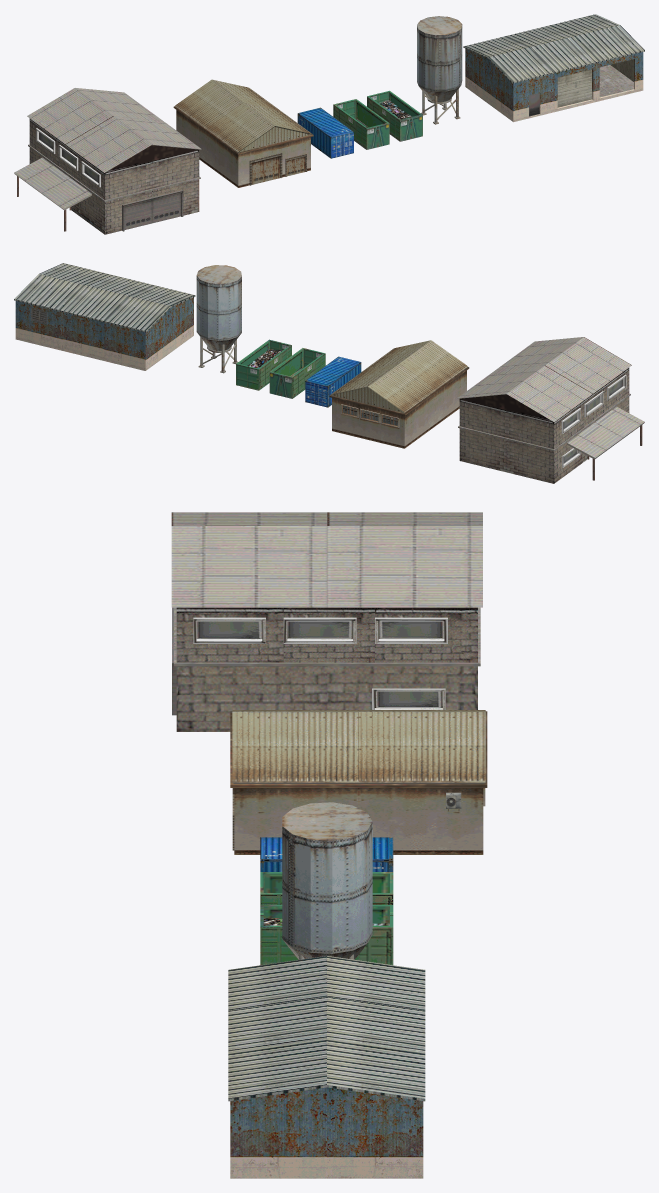
File: industrial_buildings.fbx
The picture shows the model from 3 angles, top to bottom: view 1: azimuth 30°, elevation 25°; view 2: azimuth 150°, elevation 25°; view 3: azimuth 270°, elevation 25°; orthographic projection. The views are drawn at different scales.
Parts seen in each view (by area): view 1: Building02, Cube, Building01, LiquidReservoir, Container01, Trashcan01, Trashcan2; view 2: Building02, Cube, Building01, LiquidReservoir, Trashcan01, Trashcan2, Container01; view 3: Building02, Cube, Building01, LiquidReservoir, Trashcan2, Container01, Trashcan01.
Boxes of the visible parts, x1,y1,x2,y2 form: Building02: (14,88,201,234); Cube: (463,14,644,122); Building01: (173,79,313,187); LiquidReservoir: (417,16,462,124); Container01: (297,107,353,158); Trashcan01: (333,99,389,149); Trashcan2: (367,90,422,141); Building02: (457,337,644,483); Cube: (14,263,195,370); Building01: (329,340,469,448); LiquidReservoir: (196,265,241,373); Trashcan01: (269,348,325,398); Trashcan2: (236,339,291,390); Container01: (305,356,361,407); Building02: (171,512,482,731); Cube: (228,956,425,1178); Building01: (230,710,487,854); LiquidReservoir: (282,802,372,959); Trashcan2: (260,905,393,965); Container01: (260,837,393,871); Trashcan01: (260,872,393,904).
Size of the model in its own units: 13060 by 1958 by 3072.
